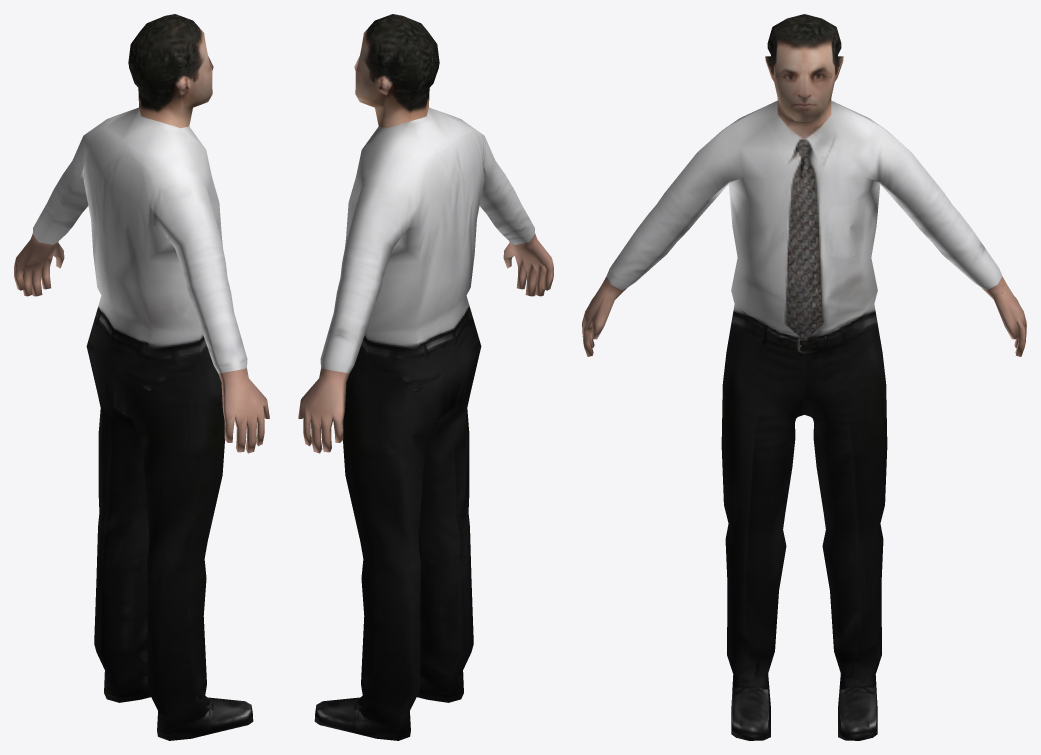
Rendered from Character_Male_36.fbx.
3 renders of one model, left to right at view 1: azimuth 30°, elevation 25°; view 2: azimuth 150°, elevation 25°; view 3: azimuth 270°, elevation 25°, orthographic.
Visible parts, largest first — view 1: Character_Male_36; view 2: Character_Male_36; view 3: Character_Male_36.
Part boxes in pixels (x1=…): Character_Male_36: x1=14, y1=14, x2=269, y2=740; Character_Male_36: x1=298, y1=14, x2=553, y2=740; Character_Male_36: x1=582, y1=14, x2=1026, y2=740.
Size of the model in its own units: 0.3081 by 1.71 by 0.9884.
